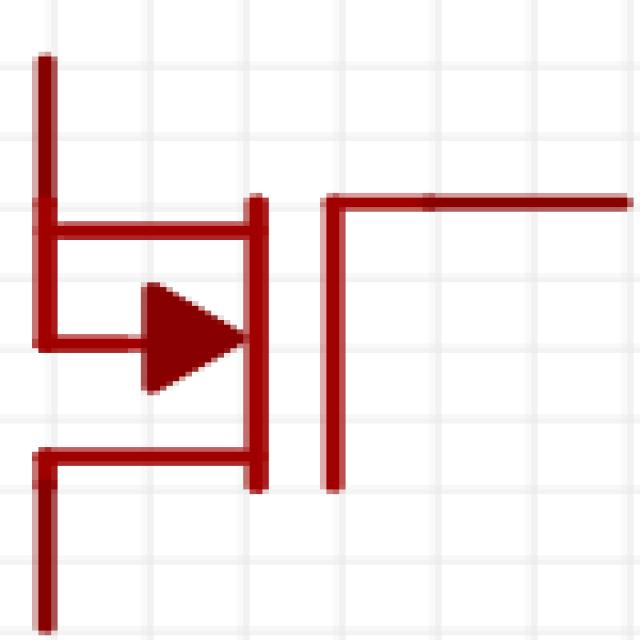nmos: (6, 14, 634, 640)
